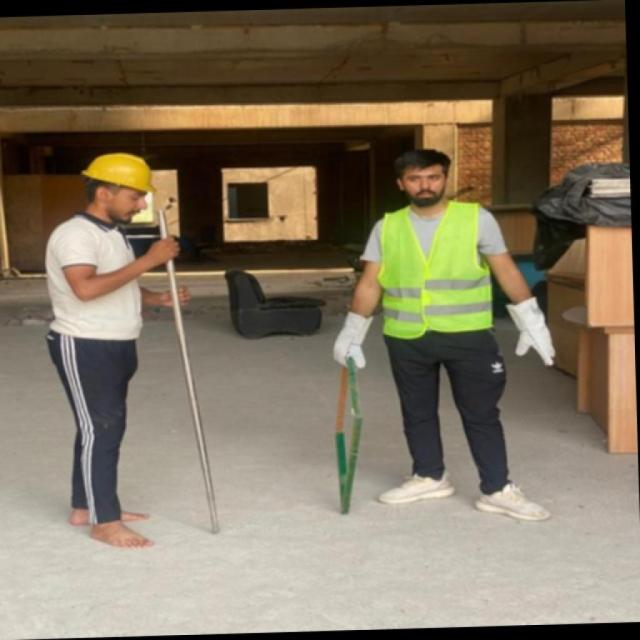Gloves-Detection: (491, 302, 571, 366), (329, 307, 375, 378)
